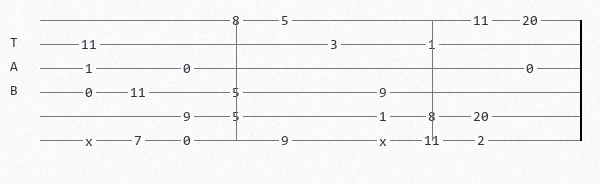0: (85, 86, 97, 99), (183, 134, 195, 147), (183, 62, 195, 75), (526, 62, 538, 75)
1: (85, 62, 97, 75), (379, 110, 391, 123), (428, 38, 440, 51)
11: (81, 38, 101, 51), (130, 86, 150, 99), (424, 134, 444, 147), (473, 14, 493, 27)
2: (477, 134, 489, 147)
20: (473, 110, 493, 123), (522, 14, 542, 27)
3: (330, 38, 342, 51)
5: (232, 110, 244, 123), (232, 86, 244, 99), (281, 14, 293, 27)
7: (134, 134, 146, 147)
8: (232, 14, 244, 27), (428, 110, 440, 123)
9: (183, 110, 195, 123), (281, 134, 293, 147), (379, 86, 391, 99)
x: (85, 135, 97, 146), (379, 135, 391, 146)
